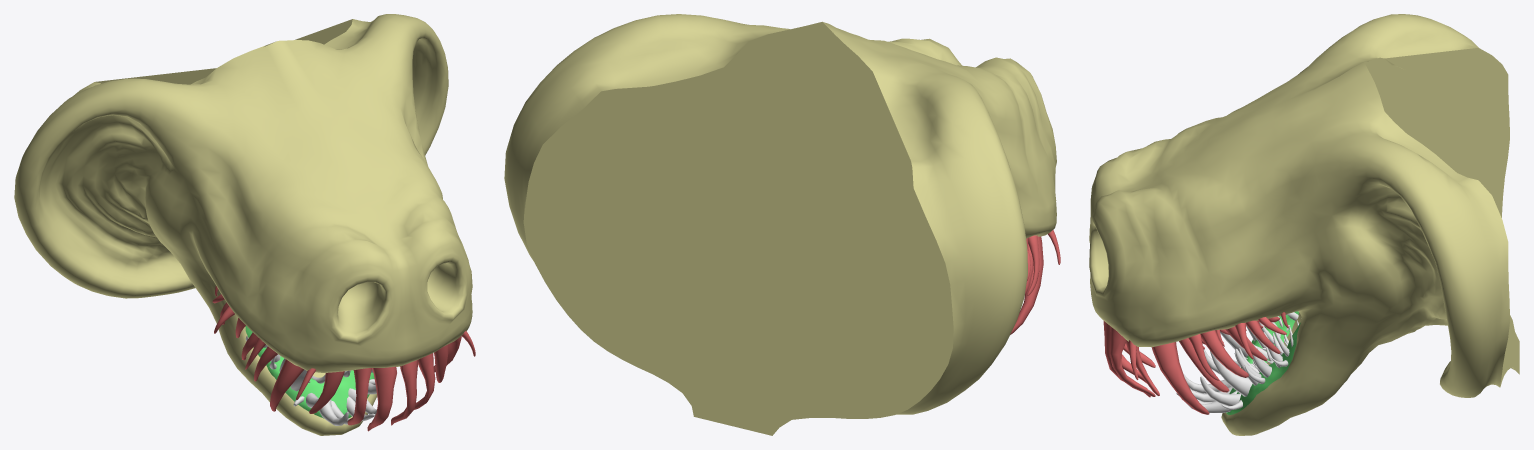
File: Head.fbx
The picture shows the model from 3 angles, left to right: view 1: azimuth 30°, elevation 25°; view 2: azimuth 150°, elevation 25°; view 3: azimuth 270°, elevation 25°; orthographic projection. The views are drawn at different scales.
Visible parts, largest first — view 1: Head, Teeth_Up, Teeth_Down, Teeth_Base; view 2: Head, Teeth_Up; view 3: Head, Teeth_Up, Teeth_Down, Teeth_Base.
Part boxes in pixels (<box>): Head: <box>14,14,472,435</box>; Teeth_Up: <box>212,286,475,431</box>; Teeth_Down: <box>245,336,376,425</box>; Teeth_Base: <box>245,326,374,418</box>; Head: <box>504,14,1056,435</box>; Teeth_Up: <box>1010,230,1060,334</box>; Head: <box>1089,14,1519,435</box>; Teeth_Up: <box>1103,312,1288,414</box>; Teeth_Down: <box>1176,312,1298,412</box>; Teeth_Base: <box>1226,311,1300,414</box>.
Size of the model in its own units: 5.69 by 4.44 by 4.72.
